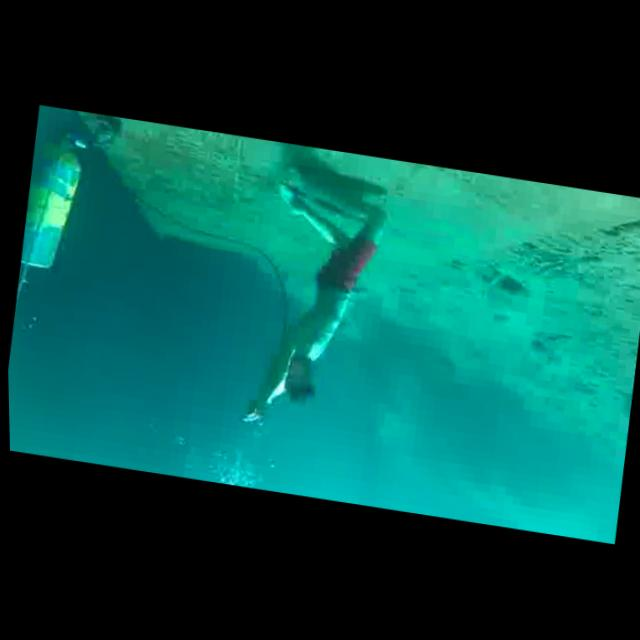human: (232, 161, 398, 444)
